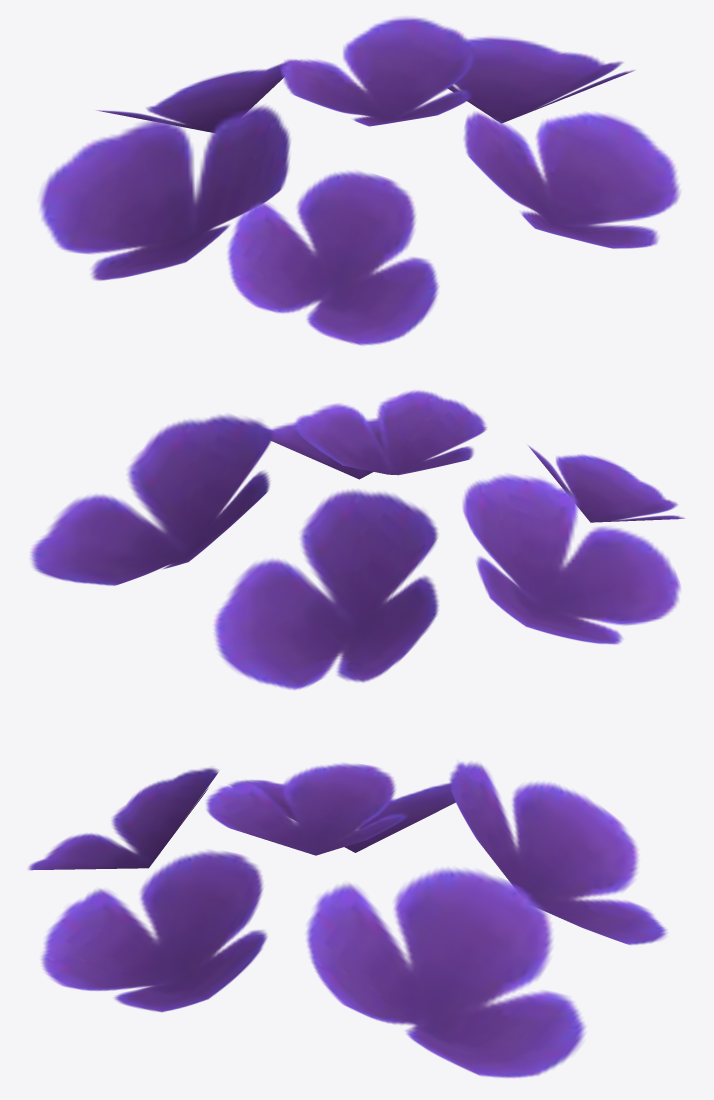
File: n_plant2.glb
The picture shows the model from 3 angles, top to bottom: view 1: azimuth 30°, elevation 25°; view 2: azimuth 150°, elevation 25°; view 3: azimuth 270°, elevation 25°; orthographic projection. The views are drawn at different scales.
Parts seen in each view (by area): view 1: Plant_7; view 2: Plant_7; view 3: Plant_7.
Part boxes in pixels (x1=…): Plant_7: x1=39, y1=16, x2=680, y2=345; Plant_7: x1=30, y1=390, x2=684, y2=689; Plant_7: x1=28, y1=762, x2=667, y2=1077.
Bounding box in the file's own units: 1.05 × 0.2494 × 0.9621.
1 material, 1 textured.
